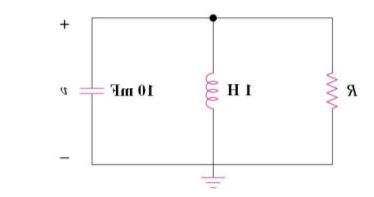inductor: (195, 57, 220, 115)
